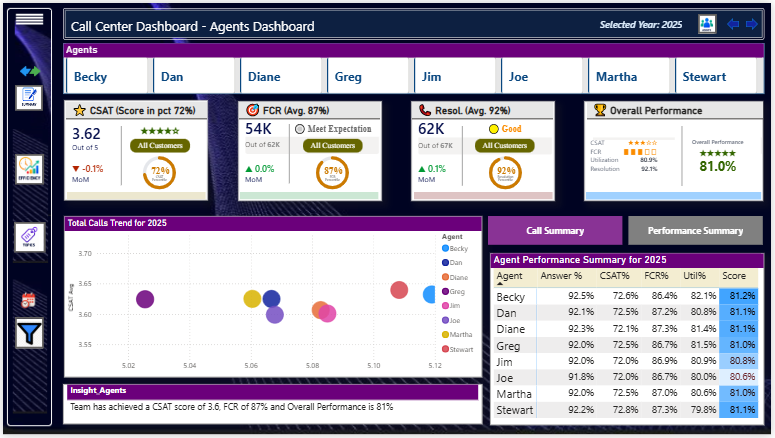

Layout of this report page (visuals, bound fields, positions):
{"tool":"powerbi","page":{"name":"Agents","canvas":[1280,720],"ordinal":2},"visuals":[{"type":"shape","box":[100,8.8,1168.8,52.5],"z":0,"group":"g8"},{"type":"image","box":[1159,20,29.1,30.8],"z":0,"group":"g10"},{"type":"image","box":[22.9,137.2,43,41.4],"z":0,"group":"g7"},{"type":"shape","box":[101.4,161.2,240,167.8],"z":0,"group":"g1"},{"type":"shape","box":[392,162.4,240,167],"z":0,"group":"g2"},{"type":"shape","box":[679.4,162.4,240,167],"z":0,"group":"g3"},{"type":"shape","box":[968.6,162.4,299.4,167.4],"z":0,"group":"g4"},{"type":"image","box":[21.4,251.5,44,50],"z":0,"group":"g6"},{"type":"scatterChart","fields":{"X":["DAX_Measures.AHT"],"Y":["DAX_Measures.CSAT"],"Size":["DAX_Measures.Answered Calls"],"Series":["dim_agents.Agent"]},"box":[101.4,354.3,697.1,268.6],"z":0},{"type":"image","box":[19.6,367.3,48.5,48.4],"z":0,"group":"g5"},{"type":"image","box":[21.8,526,45,49],"z":0,"group":"g9"},{"type":"shape","box":[1225.6,16.7,31.1,28.9],"z":1000},{"type":"actionButton","box":[1158.4,18.9,31.5,32.7],"z":1000,"group":"g10"},{"type":"textbox","box":[112.9,23.2,554.6,34.6],"z":1000,"group":"g8"},{"type":"actionButton","box":[20.8,137.1,46.5,43.4],"z":1000,"group":"g7"},{"type":"actionButton","box":[19.4,251.5,48.6,51.4],"z":1000,"group":"g6"},{"type":"shape","box":[107.1,314.5,231.2,12.4],"z":1000,"group":"g1"},{"type":"shape","box":[396,314.8,230.6,12.5],"z":1000,"group":"g2"},{"type":"shape","box":[683.8,314.9,231.1,12.3],"z":1000,"group":"g3"},{"type":"shape","box":[971.5,315.3,292.3,12.5],"z":1000,"group":"g4"},{"type":"actionButton","box":[18.6,365.7,52.9,51.4],"z":1000,"group":"g5"},{"type":"actionButton","box":[20.8,523.1,48.1,52.5],"z":1000,"group":"g9"},{"type":"cardVisual","fields":{"Data":["DAX_Measures.Answered Calls"]},"box":[681,164.7,234.5,88.1],"z":2000,"group":"g3"},{"type":"cardVisual","title":"🏆 Overall Performance","fields":{"Data":["DAX_Measures.Answered Calls"]},"box":[972.9,164.7,292.9,88.5],"z":2000,"group":"g4"},{"type":"cardVisual","fields":{"Data":["DAX_Measures.FCR"]},"box":[394.2,164.8,234.5,87.9],"z":2000,"group":"g2"},{"type":"cardVisual","fields":{"Data":["DAX_Measures.CSAT"]},"box":[105.2,164.9,235.2,87.6],"z":2000,"group":"g1"},{"type":"tableEx","title":"Insight","fields":{"Values":["DAX_Measures.Insight_Agents"]},"box":[100,635.7,698.6,67.1],"z":2000},{"type":"advancedSlicerVisual","title":"Agents","fields":{"Values":["dim_agents.Agent"]},"box":[100,66.2,1168.8,85],"z":3000},{"type":"image","box":[1119.4,196,146,119.3],"z":3000,"group":"g4"},{"type":"cardVisual","title":"MOM","fields":{"Data":["DAX_Measures.CSAT PM"]},"box":[104.7,257.7,236.7,50.1],"z":3000,"group":"g1"},{"type":"cardVisual","title":"MOM","fields":{"Data":["DAX_Measures.FCR MoM %"]},"box":[393.7,257.9,236,50.2],"z":3000,"group":"g2"},{"type":"cardVisual","title":"MOM","fields":{"Data":["DAX_Measures.Resol MoM %"]},"box":[680.5,258,236,50.3],"z":3000,"group":"g3"},{"type":"group","id":"g1","title":"Group CSAT","box":[101.4,161.2,241.4,168.6],"z":4000},{"type":"image","box":[972.7,207.2,163.8,108.2],"z":4000,"group":"g4"},{"type":"image","box":[211.5,248.9,97.8,65.7],"z":4000,"group":"g1"},{"type":"image","box":[500.1,249,97.6,65.9],"z":4000,"group":"g2"},{"type":"image","box":[787,249.1,97.6,66],"z":4000,"group":"g3"},{"type":"group","id":"g2","title":"Group FCR","box":[390.3,161.2,241.7,168.8],"z":5000},{"type":"image","box":[182.6,196.8,156.8,57.5],"z":5000,"group":"g1"},{"type":"image","box":[471.3,196.8,156.3,57.7],"z":5000,"group":"g2"},{"type":"image","box":[758.1,196.8,156.3,57.8],"z":5000,"group":"g3"},{"type":"shape","box":[1126.6,205.1,9.9,100.1],"z":5000,"group":"g4"},{"type":"group","id":"g3","title":"Group Resol","box":[679.4,161.2,241.7,168.8],"z":6000},{"type":"shape","box":[969.8,161.2,297.5,168.8],"z":6000,"group":"g4"},{"type":"shape","box":[471.3,201.1,11.3,99],"z":6000,"group":"g2"},{"type":"shape","box":[758.6,203.8,11.3,99.6],"z":6000,"group":"g3"},{"type":"shape","box":[191.4,204.9,11.2,98.8],"z":6000,"group":"g1"},{"type":"shape","box":[101.4,161.2,241.2,168.8],"z":7000,"group":"g1"},{"type":"shape","box":[390.3,161.2,240,168.8],"z":7000,"group":"g2"},{"type":"shape","box":[679.8,161.2,241.2,168.8],"z":7000,"group":"g3"},{"type":"group","id":"g4","title":"Group Perform","box":[968.6,161.2,300,168.6],"z":7000},{"type":"pivotTable","fields":{"Rows":["dim_agents.Agent"],"Values":["DAX_Measures.Answered Calls %","DAX_Measures.CSAT Avg %%","DAX_Measures.FCR %","DAX_Measures.Agent Avg Daily Utilize  %","DAX_Measures.SVG Overall Score"]},"box":[811.4,417.1,457.1,287.1],"z":8000},{"type":"bookmarkNavigator","box":[807.8,354.4,458.9,48.9],"z":10000},{"type":"group","id":"g5","title":"Topics Button","box":[18.6,365.7,52.9,51.4],"z":11000},{"type":"group","id":"g6","title":"Efficiency Button","box":[19.4,251.5,48.6,51.4],"z":12000},{"type":"group","id":"g7","title":"Summary Button","box":[20.8,137.1,45.7,42.9],"z":13000},{"type":"actionButton","box":[8.8,6.2,67.5,51.2],"z":15000},{"type":"group","id":"g8","title":"Title","box":[100,8.8,1168.8,52.5],"z":16000},{"type":"group","id":"g9","title":"A_Date Icon","box":[20.8,523.1,48.8,52.5],"z":17000},{"type":"image","box":[22.9,97.1,44.3,34.3],"z":20000},{"type":"image","box":[20,478.6,45.7,34.3],"z":21000},{"type":"shape","box":[1238.3,25,20,20],"z":22000},{"type":"shape","box":[1207.1,25.7,20,20],"z":23000},{"type":"cardVisual","fields":{"Data":["DAX_Measures.T_Topic Period Label"]},"box":[771.7,18.3,360,30],"z":24000},{"type":"group","id":"g10","title":"Agents Button","box":[1158.4,18.9,32,33],"z":25000}]}

Visuals, with their boxes on the page's 1280x720 design canvas (x1, y1, x2, y2). These are canvas units, not pixel positions in the 775x438 screenshot, which may show the page scaled, cropped or inside an application window:
shape: 100,9,1269,61
image: 1159,20,1188,51
image: 23,137,66,179
shape: 101,161,341,329
shape: 392,162,632,329
shape: 679,162,919,329
shape: 969,162,1268,330
image: 21,252,65,302
scatterChart - DAX_Measures.AHT x DAX_Measures.CSAT: 101,354,798,623
image: 20,367,68,416
image: 22,526,67,575
shape: 1226,17,1257,46
actionButton: 1158,19,1190,52
textbox: 113,23,668,58
actionButton: 21,137,67,180
actionButton: 19,252,68,303
shape: 107,314,338,327
shape: 396,315,627,327
shape: 684,315,915,327
shape: 972,315,1264,328
actionButton: 19,366,72,417
actionButton: 21,523,69,576
cardVisual - DAX_Measures.Answered Calls: 681,165,916,253
"🏆 Overall Performance" cardVisual: 973,165,1266,253
cardVisual - DAX_Measures.FCR: 394,165,629,253
cardVisual - DAX_Measures.CSAT: 105,165,340,252
"Insight" tableEx: 100,636,799,703
"Agents" advancedSlicerVisual: 100,66,1269,151
image: 1119,196,1265,315
"MOM" cardVisual: 105,258,341,308
"MOM" cardVisual: 394,258,630,308
"MOM" cardVisual: 680,258,916,308
"Group CSAT" group: 101,161,343,330
image: 973,207,1136,315
image: 212,249,309,315
image: 500,249,598,315
image: 787,249,885,315
"Group FCR" group: 390,161,632,330
image: 183,197,339,254
image: 471,197,628,254
image: 758,197,914,255
shape: 1127,205,1136,305
"Group Resol" group: 679,161,921,330
shape: 970,161,1267,330
shape: 471,201,483,300
shape: 759,204,770,303
shape: 191,205,203,304
shape: 101,161,343,330
shape: 390,161,630,330
shape: 680,161,921,330
"Group Perform" group: 969,161,1269,330
pivotTable - dim_agents.Agent x DAX_Measures.Answered Calls %: 811,417,1268,704
bookmarkNavigator: 808,354,1267,403
"Topics Button" group: 19,366,72,417
"Efficiency Button" group: 19,252,68,303
"Summary Button" group: 21,137,66,180
actionButton: 9,6,76,57
"Title" group: 100,9,1269,61
"A_Date Icon" group: 21,523,70,576
image: 23,97,67,131
image: 20,479,66,513
shape: 1238,25,1258,45
shape: 1207,26,1227,46
cardVisual - DAX_Measures.T_Topic Period Label: 772,18,1132,48
"Agents Button" group: 1158,19,1190,52
